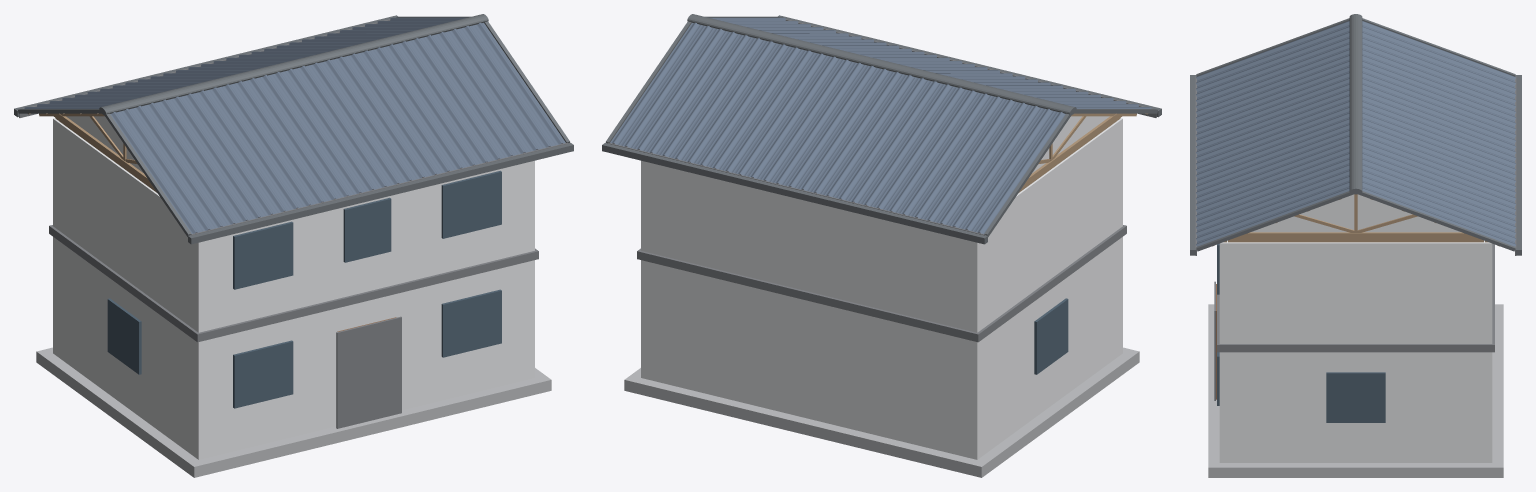
File: Mega_Hi_Rib_Two_Storey_8x6.glb
3 views of the same model, side by side, from view 1: azimuth 30°, elevation 25°; view 2: azimuth 150°, elevation 25°; view 3: azimuth 270°, elevation 25° (orthographic). The views are drawn at different scales.
Visible parts, largest first — view 1: GroundFloor_Walls, Foundation, Door_Frame, RoofSheet_02, RoofSheet_06, RoofSheet_07, RoofSheet_09, RoofSheet_03, RoofSheet_08, RoofSheet_05, RoofSheet_04, RoofSheet_10 (+26 smaller); view 2: GroundFloor_Walls, Foundation, RoofSheet_12, RoofSheet_16, RoofSheet_17, RoofSheet_19, RoofSheet_13, RoofSheet_18, RoofSheet_15, RoofSheet_14, RoofSheet_20, SecondFloor_BandTrim (+20 smaller); view 3: GroundFloor_Walls, Foundation, Gable_Wall_Right, Window_Side_Right, SecondFloor_BandTrim, RoofSheet_08, RoofSheet_18, RoofSheet_04, RoofSheet_07, RoofSheet_14, RoofSheet_17, RoofSheet_05 (+22 smaller).
Part boxes in pixels (<box>): GroundFloor_Walls: <box>53,118,534,459</box>; Foundation: <box>36,347,551,477</box>; Door_Frame: <box>336,316,401,428</box>; RoofSheet_02: <box>145,96,264,225</box>; RoofSheet_06: <box>296,59,415,188</box>; RoofSheet_07: <box>334,50,453,179</box>; RoofSheet_09: <box>410,31,529,160</box>; RoofSheet_03: <box>183,87,302,216</box>; RoofSheet_08: <box>372,41,491,169</box>; RoofSheet_05: <box>259,68,377,197</box>; RoofSheet_04: <box>221,78,340,206</box>; RoofSheet_10: <box>448,22,565,151</box>; GroundFloor_Walls: <box>641,118,1122,459</box>; Foundation: <box>624,347,1139,477</box>; RoofSheet_12: <box>911,96,1030,225</box>; RoofSheet_16: <box>760,59,879,188</box>; RoofSheet_17: <box>722,50,841,179</box>; RoofSheet_19: <box>646,31,765,160</box>; RoofSheet_13: <box>873,87,992,216</box>; RoofSheet_18: <box>684,41,803,169</box>; RoofSheet_15: <box>798,68,916,197</box>; RoofSheet_14: <box>835,78,954,206</box>; RoofSheet_20: <box>610,22,727,151</box>; SecondFloor_BandTrim: <box>637,225,1126,342</box>; GroundFloor_Walls: <box>1219,240,1492,462</box>; Foundation: <box>1208,304,1503,477</box>; Gable_Wall_Right: <box>1251,194,1460,232</box>; Window_Side_Right: <box>1326,372,1385,422</box>; SecondFloor_BandTrim: <box>1217,243,1494,352</box>; RoofSheet_08: <box>1196,141,1349,214</box>; RoofSheet_18: <box>1362,141,1515,214</box>; RoofSheet_04: <box>1196,72,1349,145</box>; RoofSheet_07: <box>1196,124,1349,197</box>; RoofSheet_14: <box>1362,72,1515,145</box>; RoofSheet_17: <box>1362,124,1515,197</box>; RoofSheet_05: <box>1196,90,1349,162</box>.
Size of the model in its own units: 9.1 by 7.16 by 7.3.
